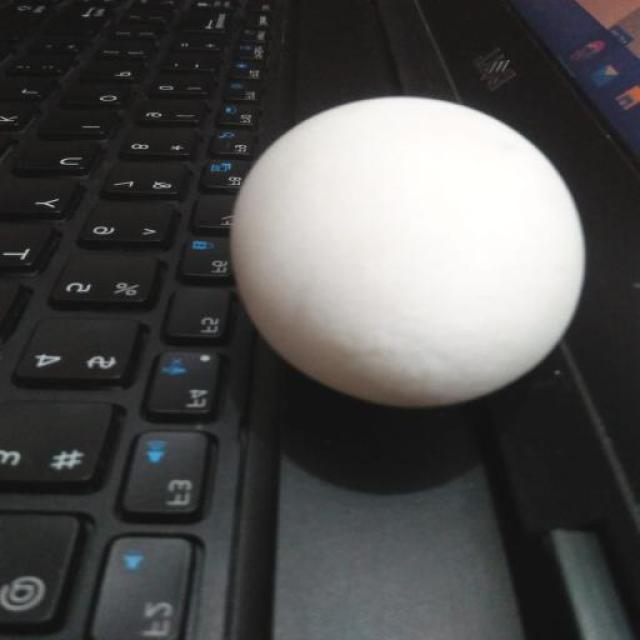telur: (223, 83, 595, 420)
